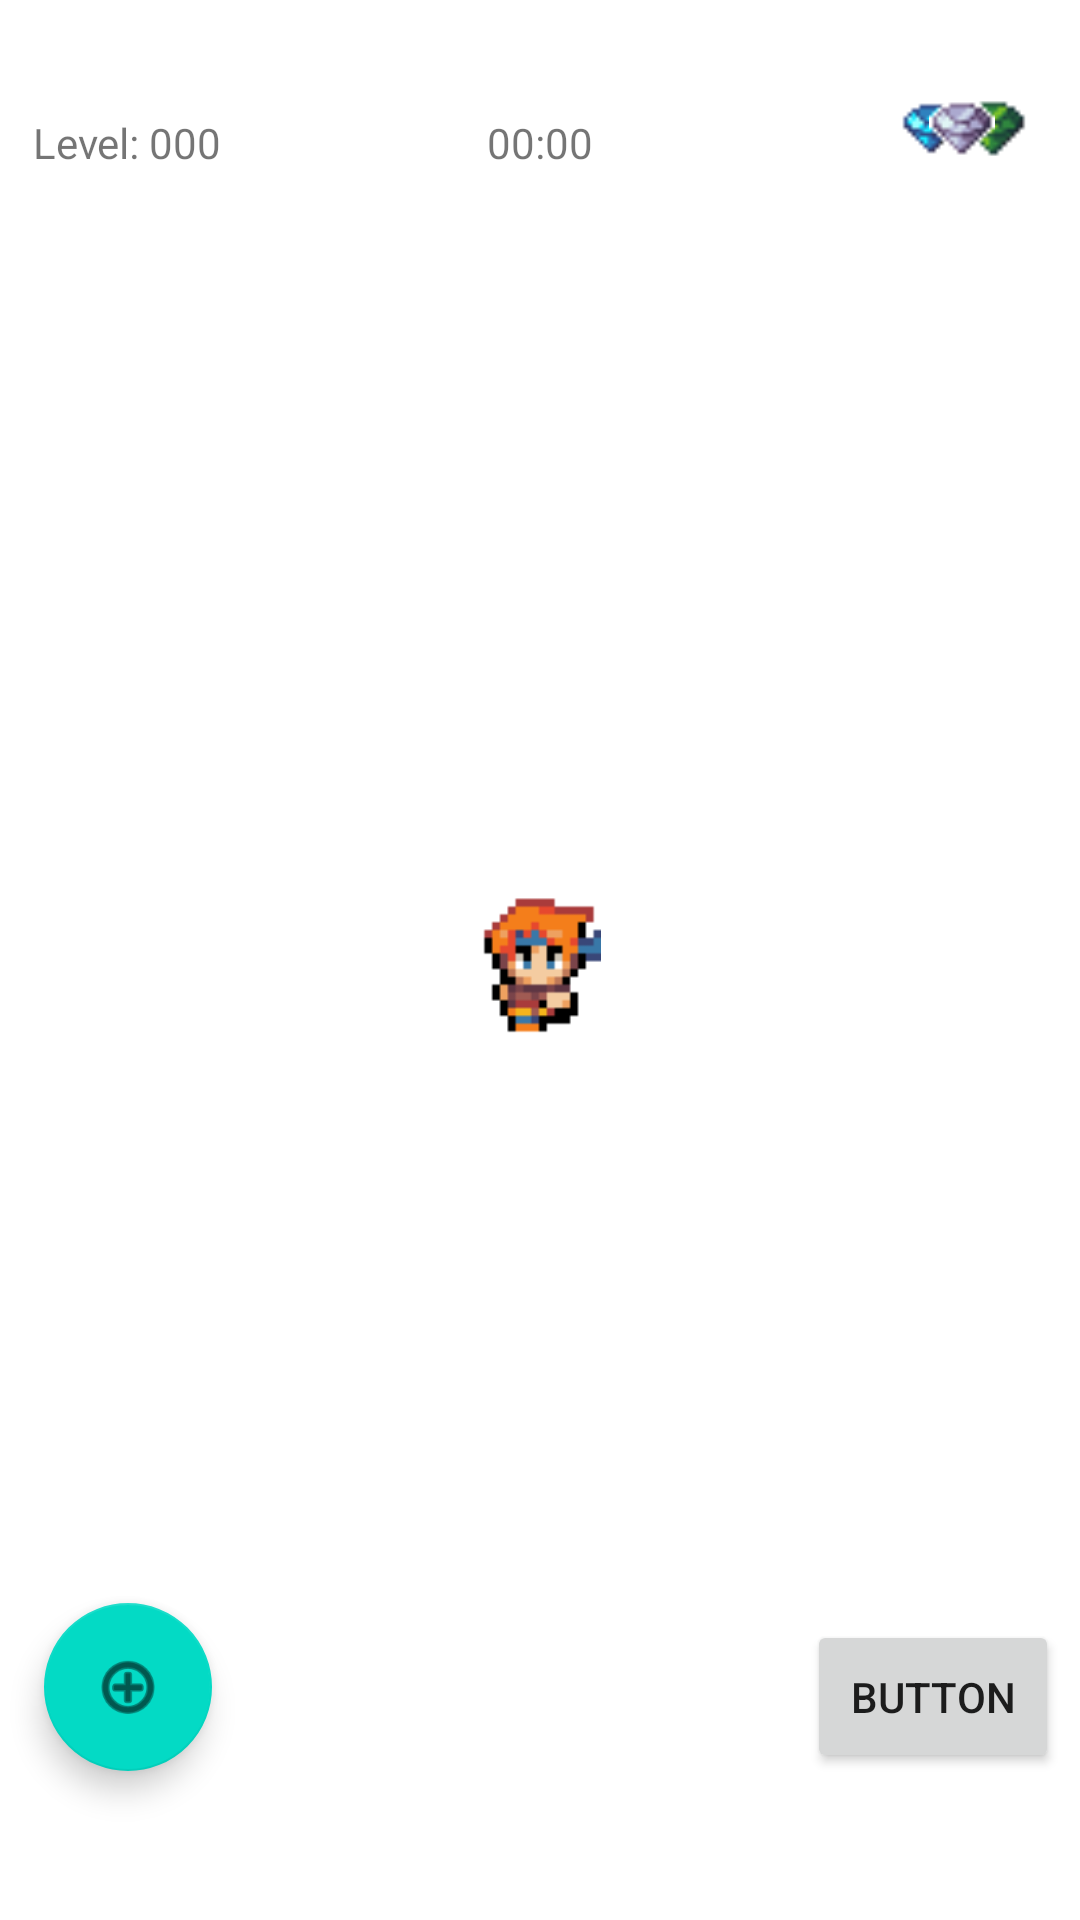

Screen size 1080px×1920px. Icon name, then its center in pixels as (x=x, y=y):
add: (x=128, y=1687)
